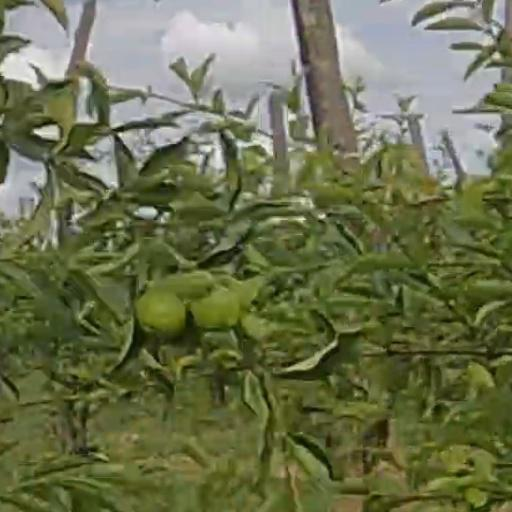acerola_verde: (137, 288, 186, 331), (194, 290, 237, 326)
